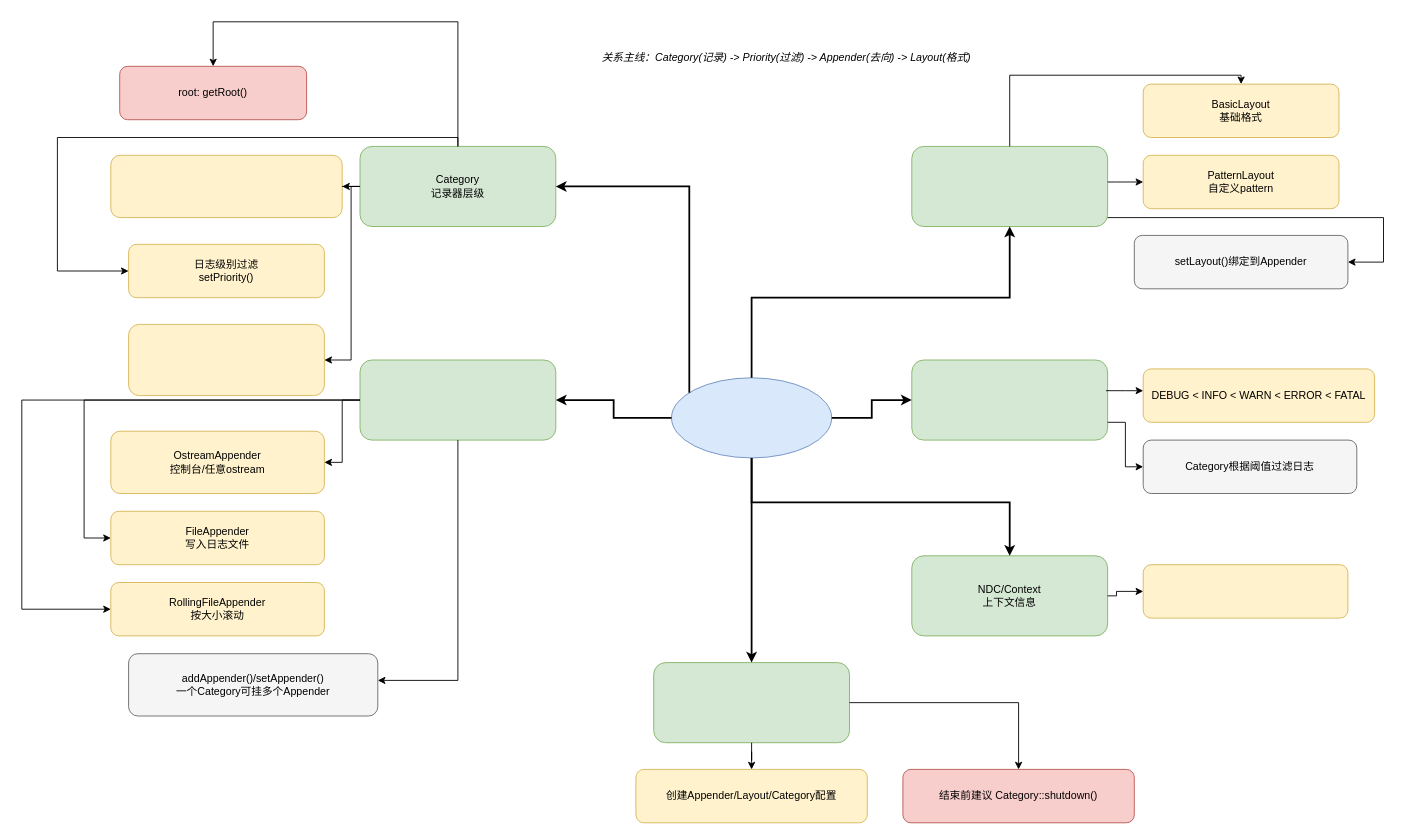
Image size: 1406x838. Some labels were removed from this diagram. Each missing label, with the box of its shape:
Appender 输出目的地: (359, 359, 556, 440)
Layout 日志格式化: (911, 146, 1108, 227)
log4cpp 日志系统: (671, 377, 832, 458)
NDC::push/pop 线程上下文栈: (1142, 564, 1348, 618)
Priority 日志级别模型: (911, 359, 1108, 440)
初始化与回收: (653, 662, 850, 743)
子记录器: getInstance(name) 如 sub1/db/net: (110, 154, 342, 218)
输出调用 error/warn/info/debug stream/printf风格: (128, 324, 324, 396)
